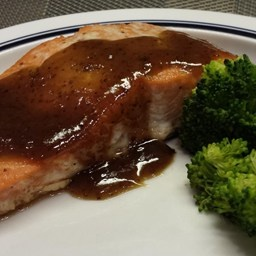background: (0, 8, 102, 95)
